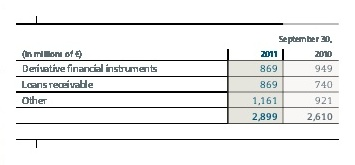table: (0, 0, 355, 165)
